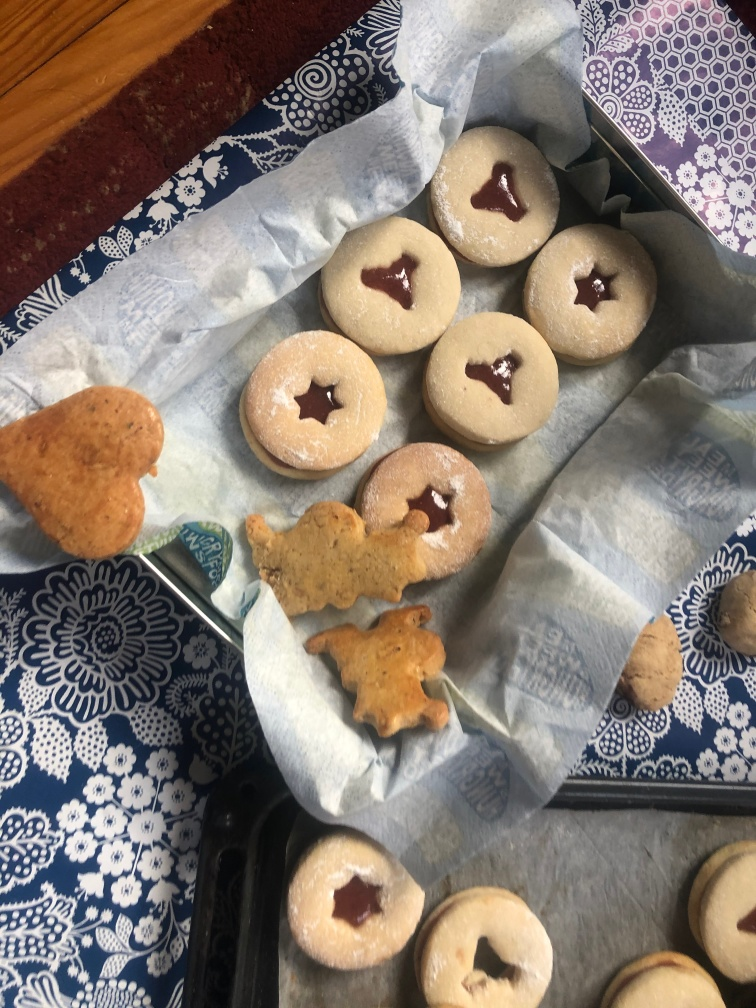christmas shortbread with jam: (236, 328, 386, 480), (427, 116, 565, 267), (322, 214, 460, 356), (286, 826, 421, 970), (358, 440, 495, 579), (430, 307, 562, 449), (523, 221, 655, 362), (418, 882, 553, 1008), (691, 841, 756, 984), (598, 949, 722, 1008)
heart: (1, 378, 167, 563)
santa claus: (238, 493, 434, 615), (305, 601, 453, 747)
snowball: (617, 612, 692, 701), (713, 571, 756, 662)
